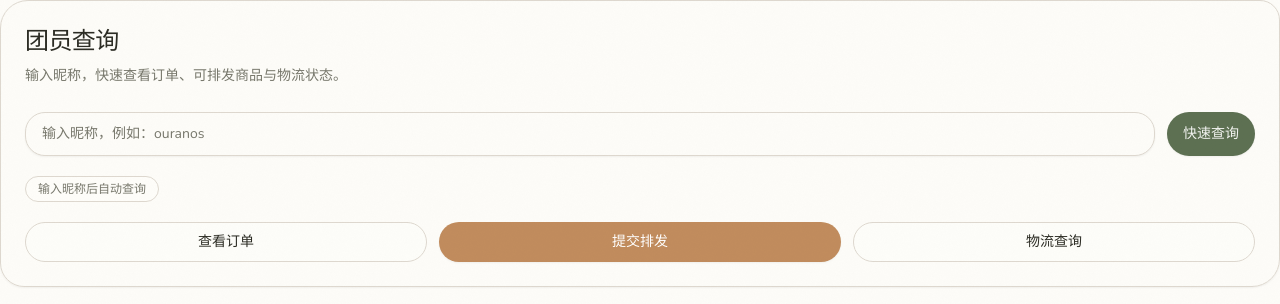
Test: NicknameSearch shows API error messages
This screenshot has width=1280, height=304.
In the field: (590, 134) [25, 112, 1155, 156], type "alice"
Wait 300 ms
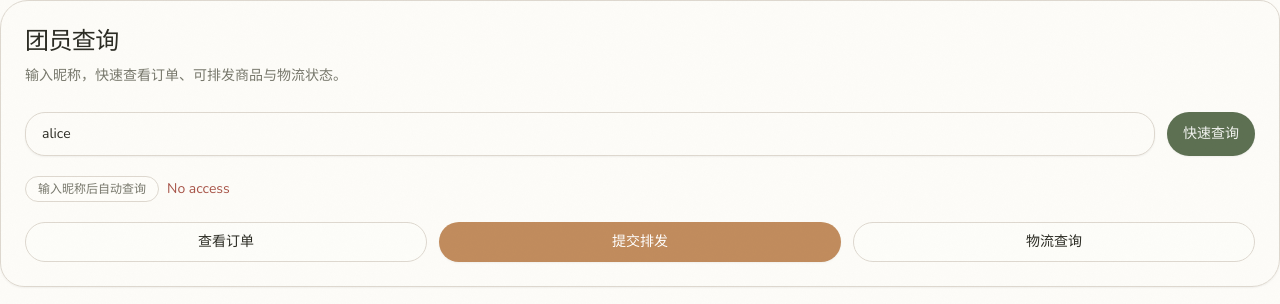
Expected: the text "No access" is shown, [167, 179, 230, 199]
